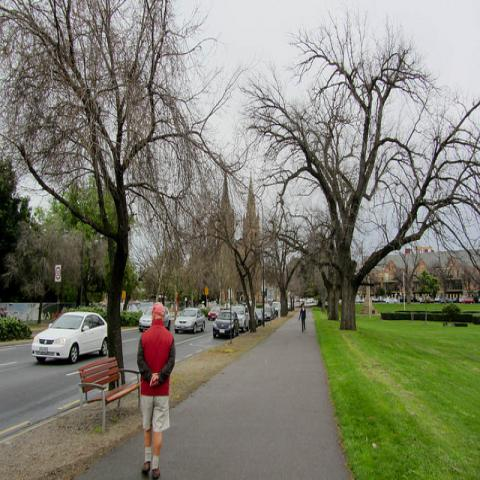car: (30, 311, 108, 368), (139, 307, 171, 332), (175, 308, 205, 334), (213, 312, 238, 337), (233, 304, 251, 334), (208, 305, 221, 321), (255, 309, 264, 326), (265, 306, 274, 321), (272, 302, 280, 316), (460, 297, 473, 304), (386, 297, 398, 303)
